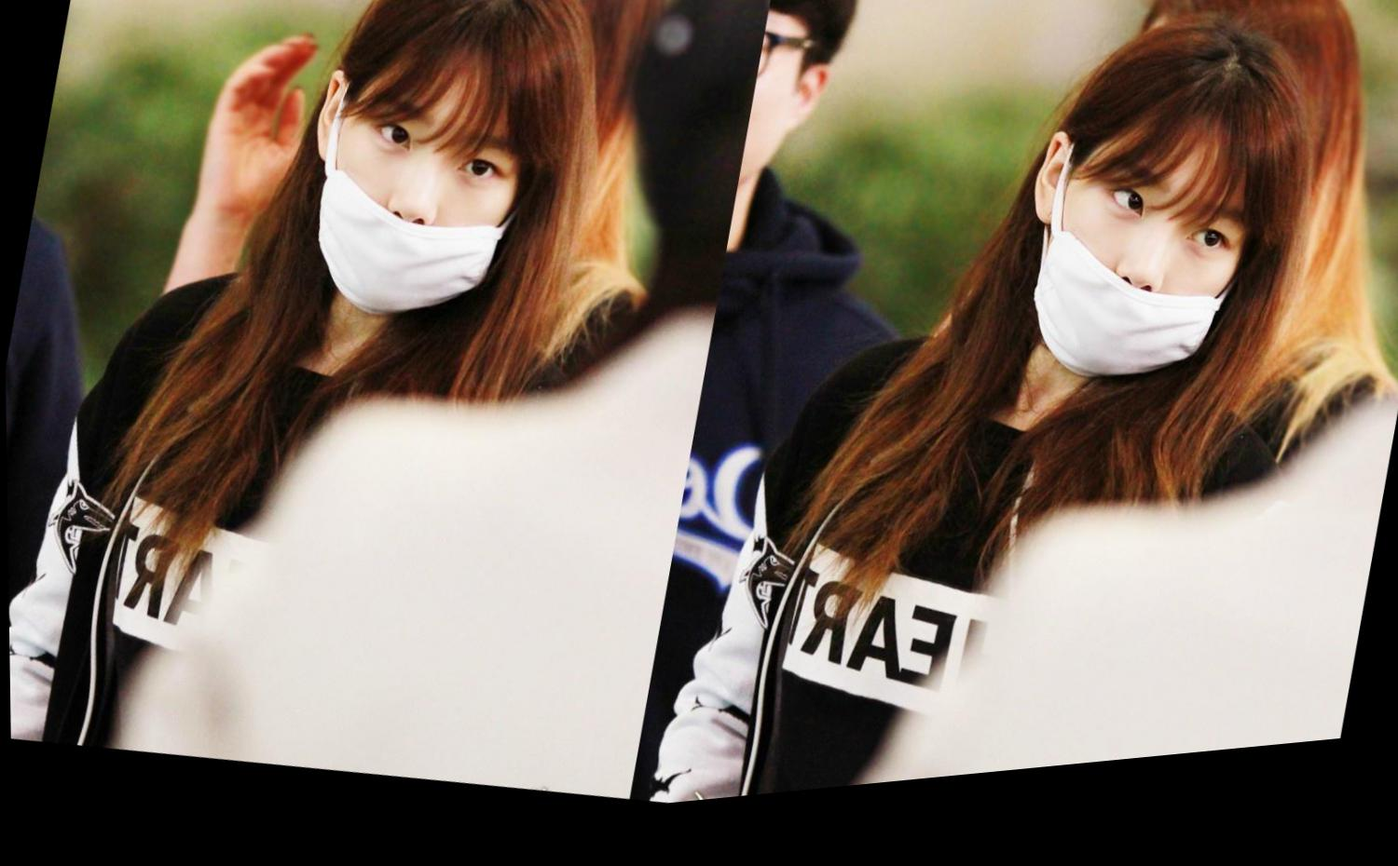WRONG: (1017, 157, 1263, 429), (306, 81, 541, 352)
